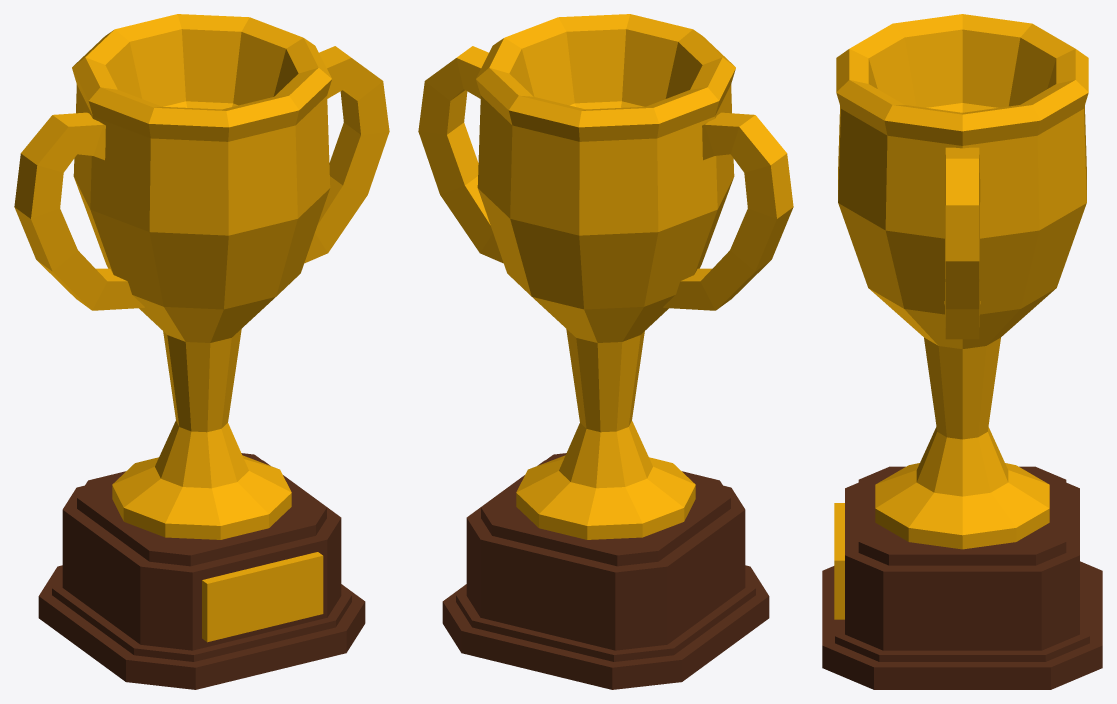
The model's file is Prize_Cup.fbx.
The picture shows the model from 3 angles, left to right: view 1: azimuth 30°, elevation 25°; view 2: azimuth 150°, elevation 25°; view 3: azimuth 270°, elevation 25°; orthographic projection.
Visible parts, largest first — view 1: Prize_Cup; view 2: Prize_Cup; view 3: Prize_Cup.
Part boxes in pixels (x1,y1,x2,y2): Prize_Cup: (14,14,389,689); Prize_Cup: (418,14,793,689); Prize_Cup: (822,14,1102,689).
Size of the model in its own units: 110 by 164 by 73.49.
